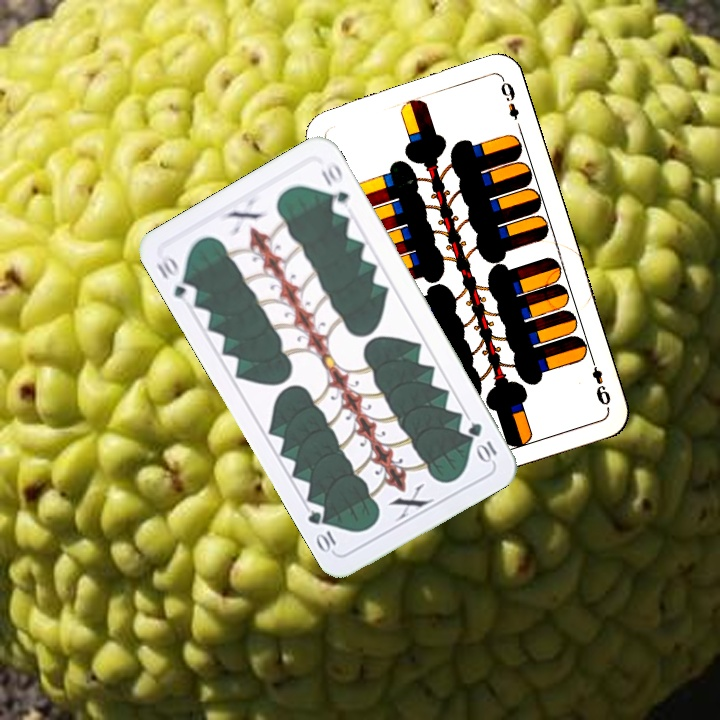E9: (586, 353, 614, 408)
G10: (152, 250, 200, 308), (464, 418, 500, 465)
